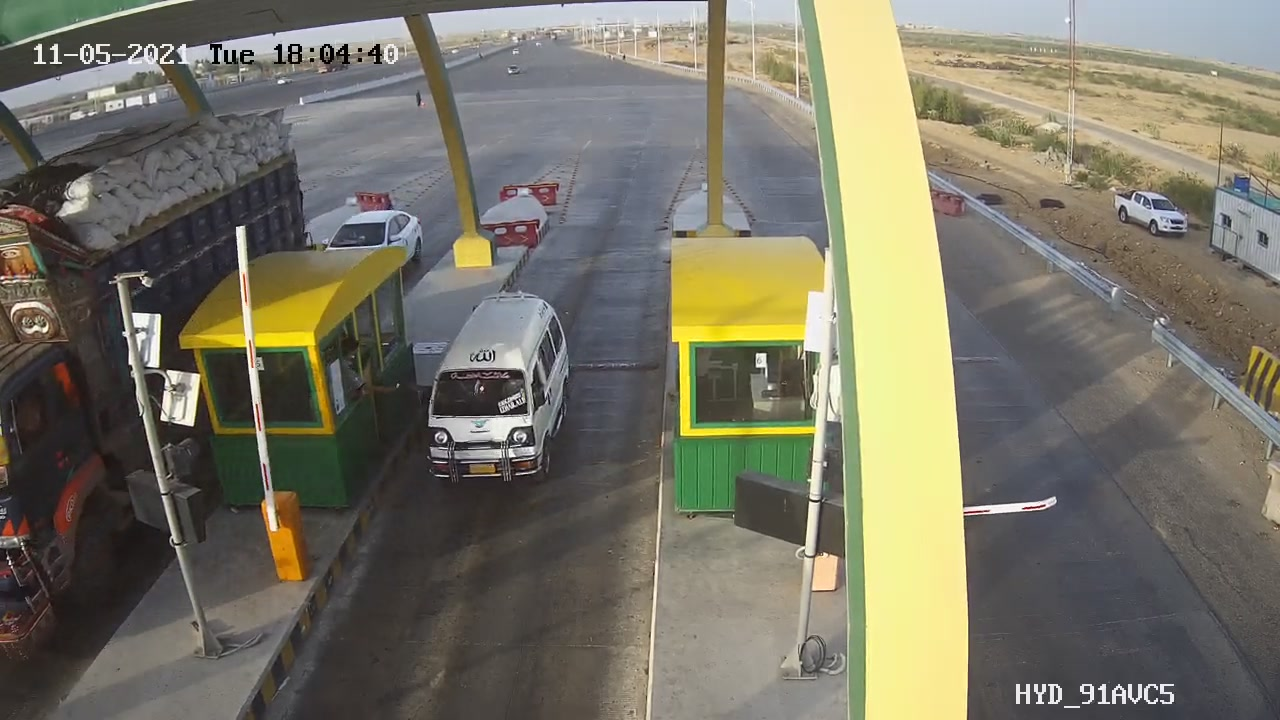F1: (405, 279, 595, 498)
